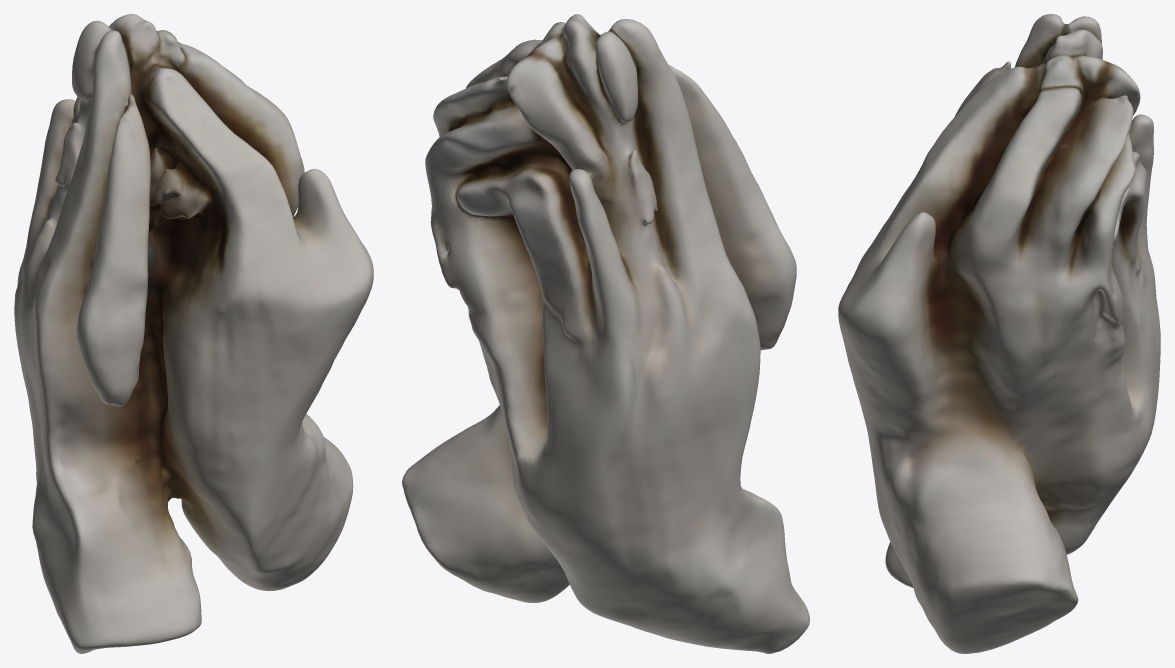
Rendered from 6f332309ba01_hands_sculpture__3d.fbx.
3 renders of one model, left to right at view 1: azimuth 30°, elevation 25°; view 2: azimuth 150°, elevation 25°; view 3: azimuth 270°, elevation 25°, orthographic. The views are drawn at different scales.
Parts seen in each view (by area): view 1: high_poly; view 2: high_poly; view 3: high_poly.
Boxes of the visible parts, bbox=[...] form: high_poly: bbox=[14, 14, 373, 653]; high_poly: bbox=[402, 14, 809, 653]; high_poly: bbox=[838, 14, 1160, 653].
Bounding box in the file's own units: 55.84 × 100 × 50.22.
